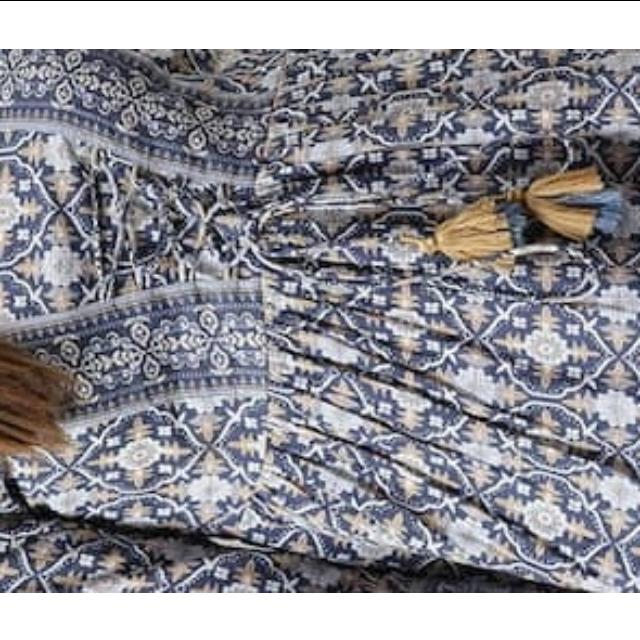cotton: (0, 48, 640, 592)
